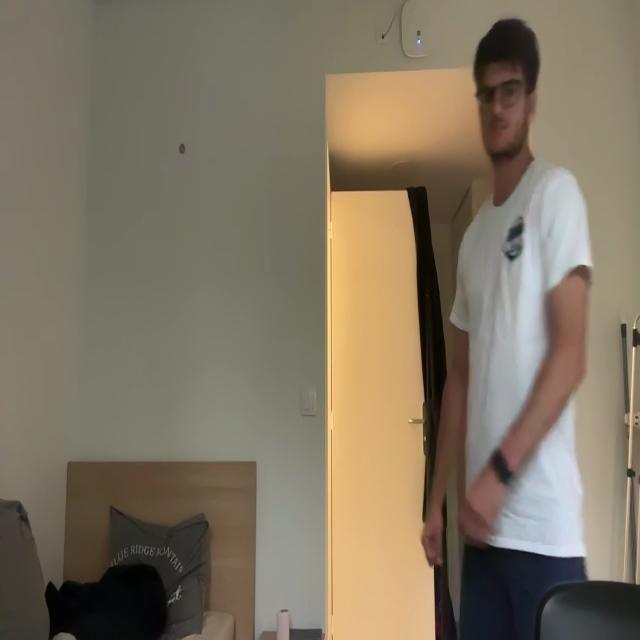elbow: (550, 337, 590, 388)
hand: (458, 471, 506, 546), (420, 503, 446, 568)
shoulder: (541, 167, 591, 248)
